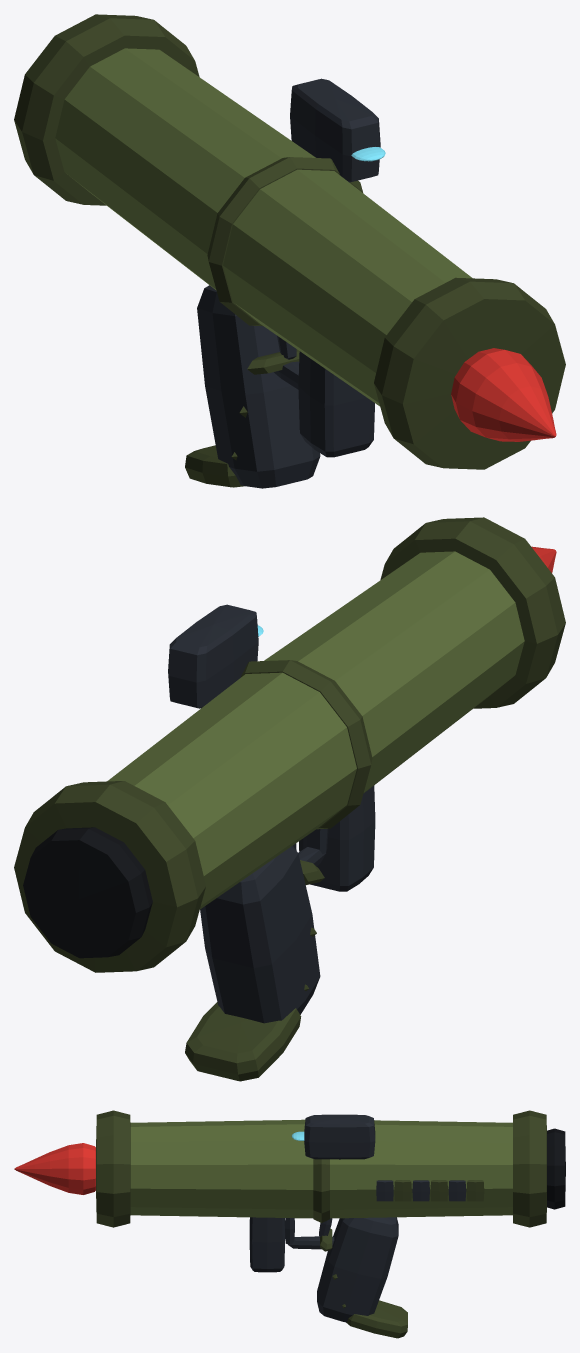
The model's file is g-x-rocket.glb.
3 views of the same model, one above another, from view 1: azimuth 30°, elevation 25°; view 2: azimuth 150°, elevation 25°; view 3: azimuth 270°, elevation 25° (orthographic). The views are drawn at different scales.
Parts seen in each view (by area): view 1: gun; view 2: gun; view 3: gun.
Boxes of the visible parts, x1,y1,x2,y2 form: gun: (14,14,565,488); gun: (14,517,565,1081); gun: (14,1110,565,1338).
Size of the model in its own units: 0.26 by 0.5586 by 1.22.
